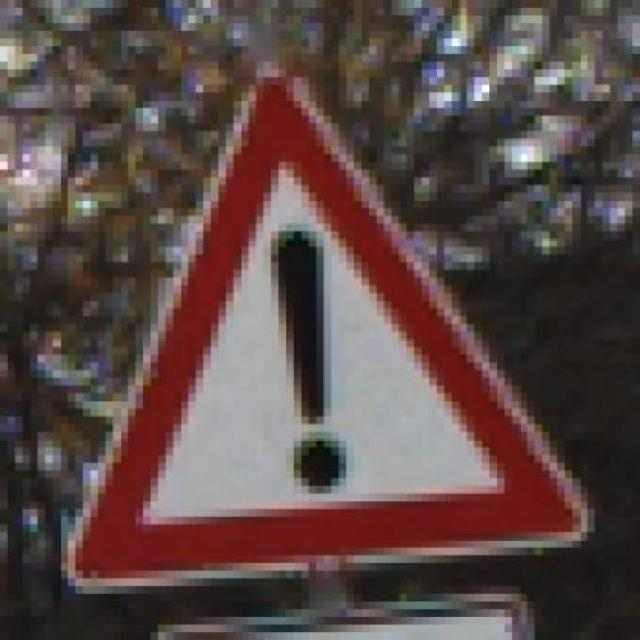Attention Please-: (38, 54, 594, 578)
